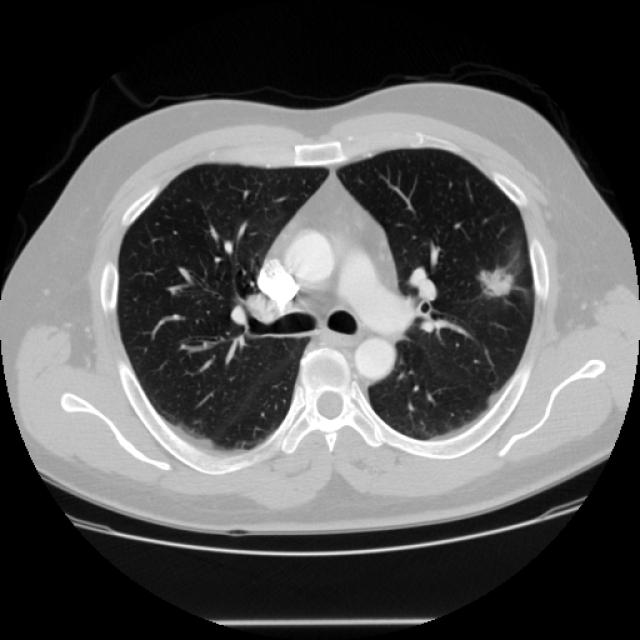nodule: (458, 244, 532, 318)
